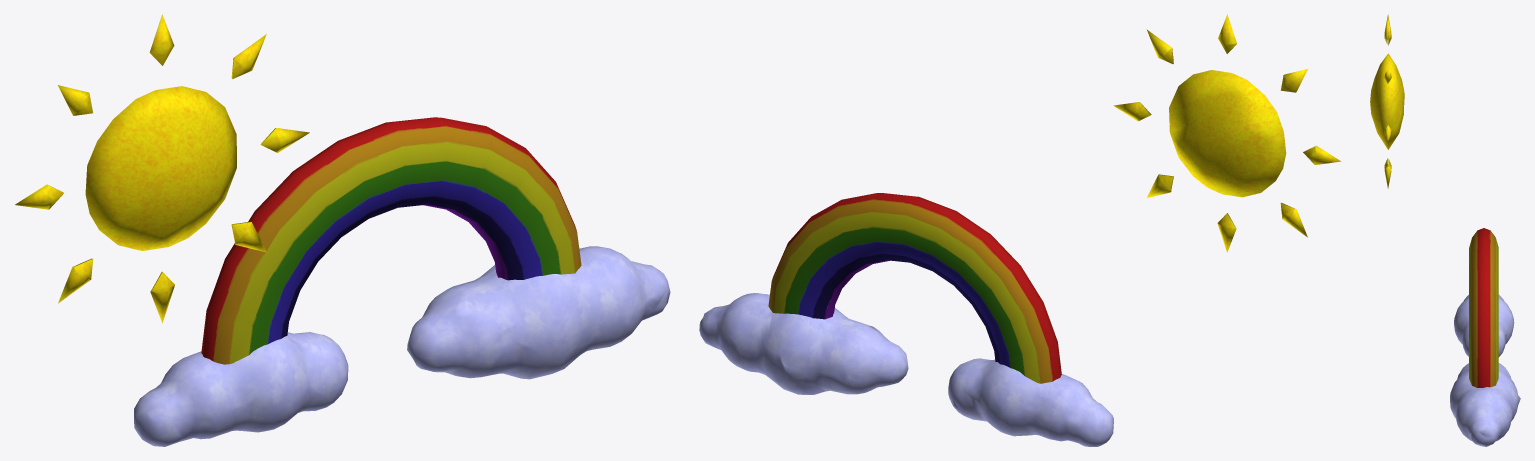
The model's file is rainbow.fbx.
The picture shows the model from 3 angles, left to right: view 1: azimuth 30°, elevation 25°; view 2: azimuth 150°, elevation 25°; view 3: azimuth 270°, elevation 25°; orthographic projection. The views are drawn at different scales.
Visible parts, largest first — view 1: rainbow; view 2: rainbow; view 3: rainbow.
Part boxes in pixels (left/top/right/bottom): rainbow: left=15, top=14, right=670, bottom=446; rainbow: left=699, top=14, right=1341, bottom=446; rainbow: left=1370, top=14, right=1520, bottom=446.
Size of the model in its own units: 86.95 by 60.05 by 28.05.
